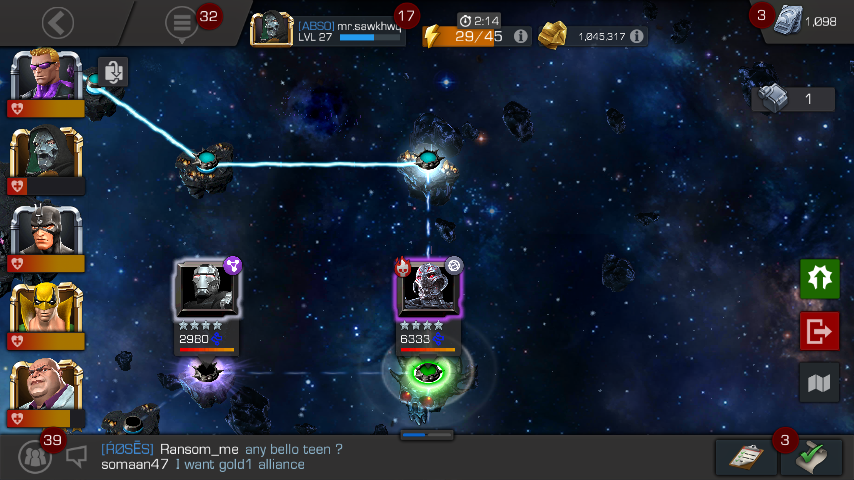green: (416, 364, 442, 382)
